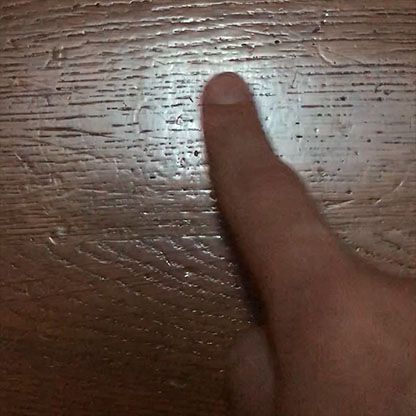fingertip: (194, 66, 263, 124)
